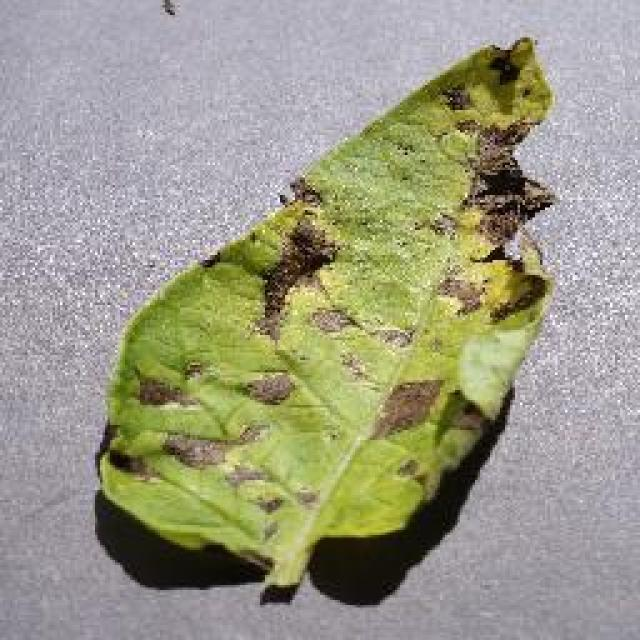early_blight: (92, 30, 562, 600)
